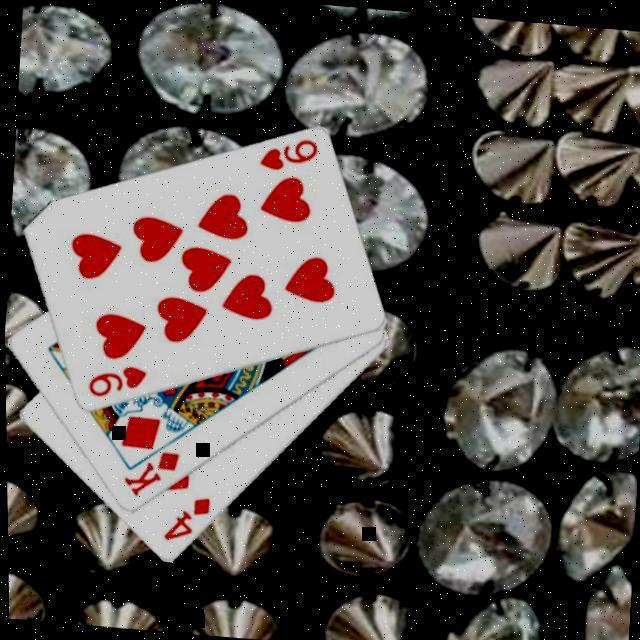4D: (157, 489, 214, 546)
9H: (82, 358, 150, 402), (255, 131, 322, 175)
KD: (117, 444, 184, 502)
